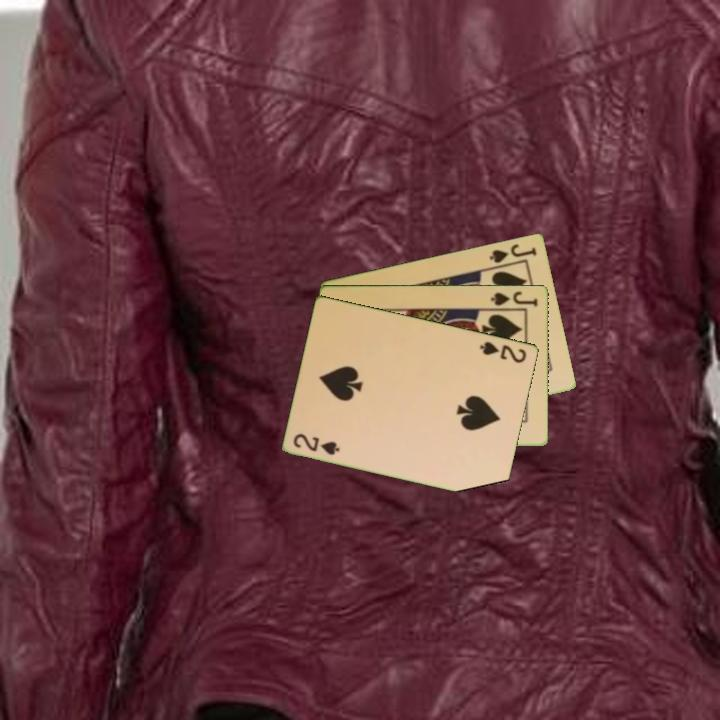2s: (477, 338, 530, 366), (290, 430, 343, 458)
Js: (486, 240, 540, 266), (488, 287, 540, 309)
